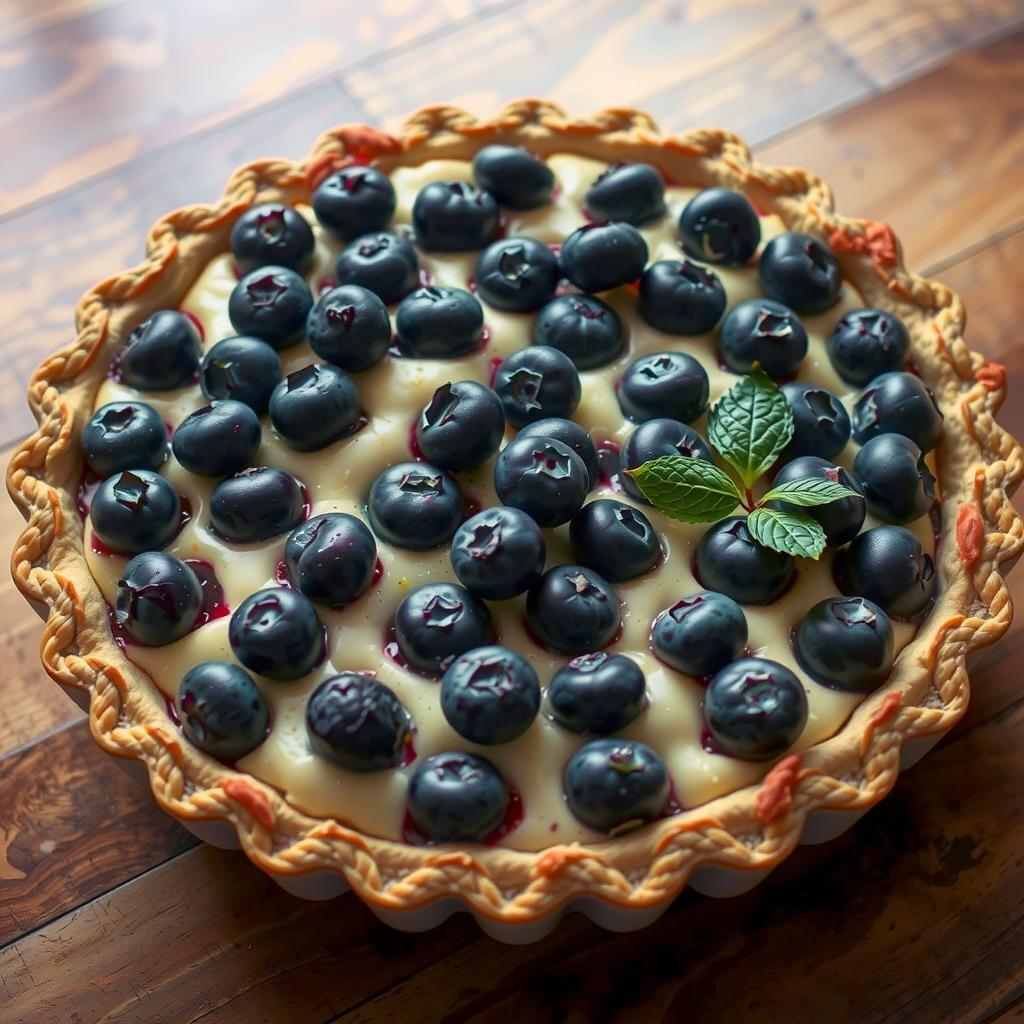pie: (0, 87, 1024, 949)
